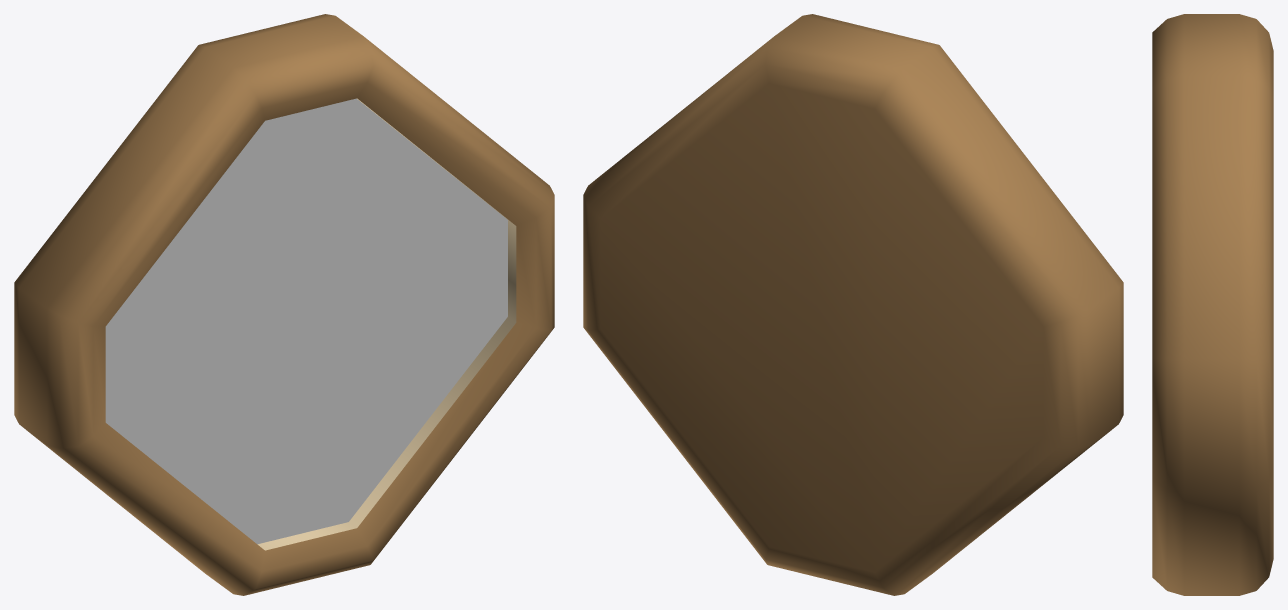
Rendered from Mirror_5C.fbx.
3 renders of one model, left to right at view 1: azimuth 30°, elevation 25°; view 2: azimuth 150°, elevation 25°; view 3: azimuth 270°, elevation 25°, orthographic.
Parts seen in each view (by area): view 1: Mirror_5C; view 2: Mirror_5C; view 3: Mirror_5C.
Boxes of the visible parts, left/top/right/bottom form: Mirror_5C: left=14, top=14, right=554, bottom=595; Mirror_5C: left=583, top=14, right=1123, bottom=595; Mirror_5C: left=1152, top=14, right=1273, bottom=595.
Size of the model in its own units: 0.6558 by 0.6558 by 0.139.
